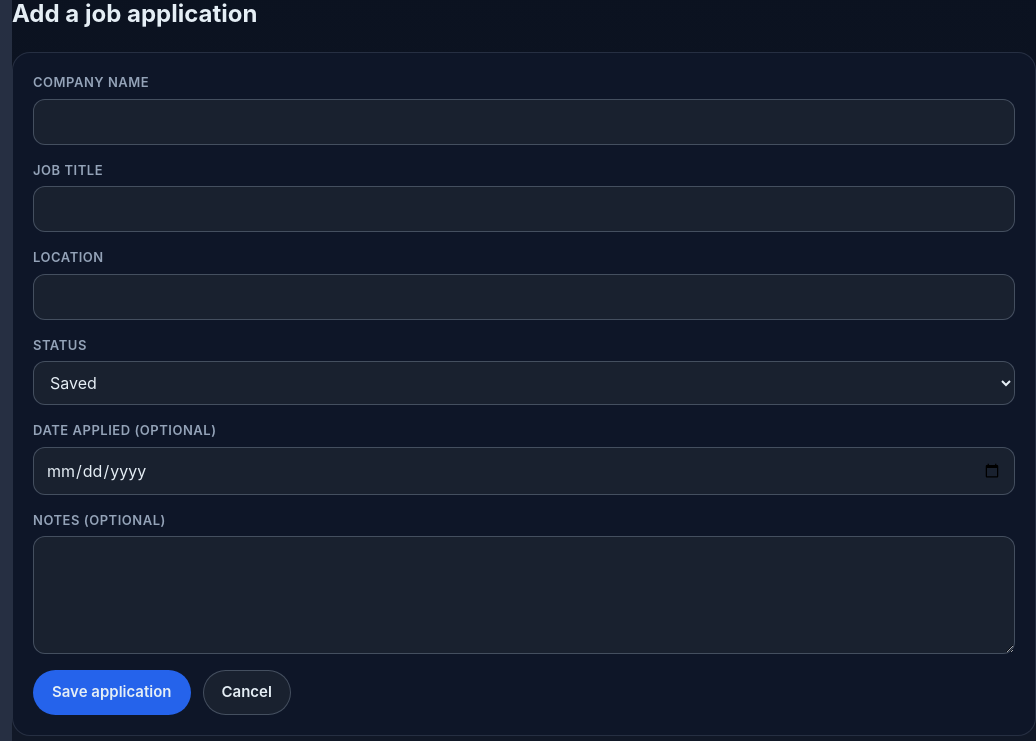
Test case: repository errors reach the user with their own message › gives a rejected storage write its own sentence instead of the fallback
Type "Fishermend" into the field labelled "Company name" at (524, 122), box [33,99,1015,145]
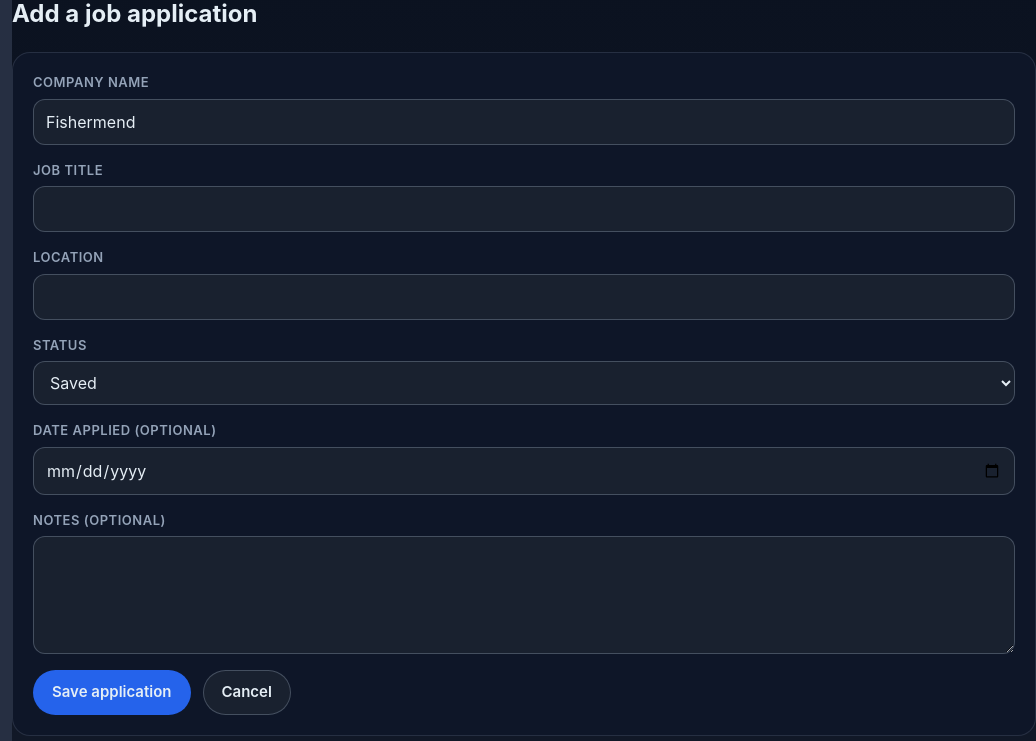
Type "Frontend Engineer" into the field labelled "Job title" at (524, 209), box [33,186,1015,232]
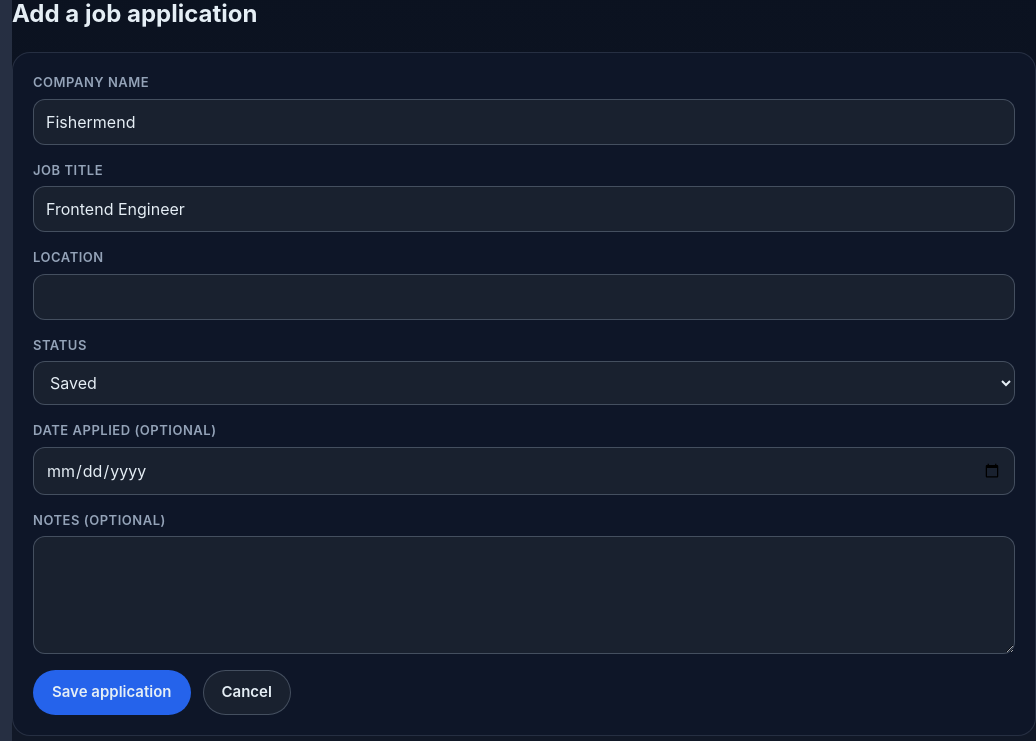
Type "Auckland, NZ" into the field labelled "Location" at (524, 297), box [33,274,1015,320]
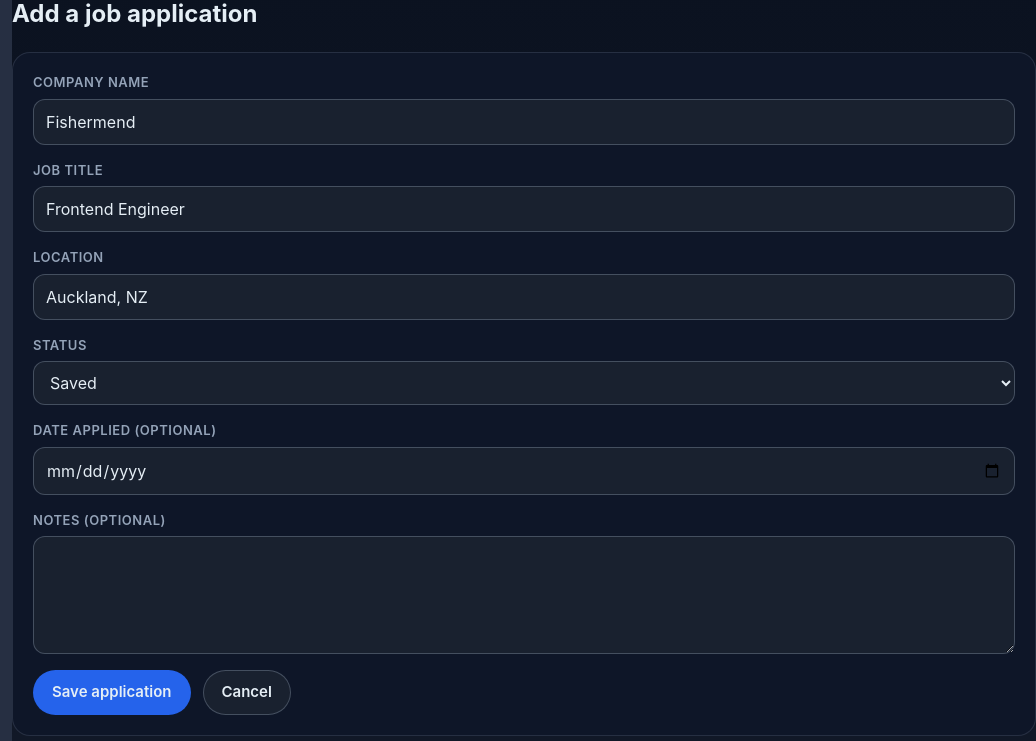
Click the button "Save application" at (112, 692), box [33,670,190,715]
(page scrolled)
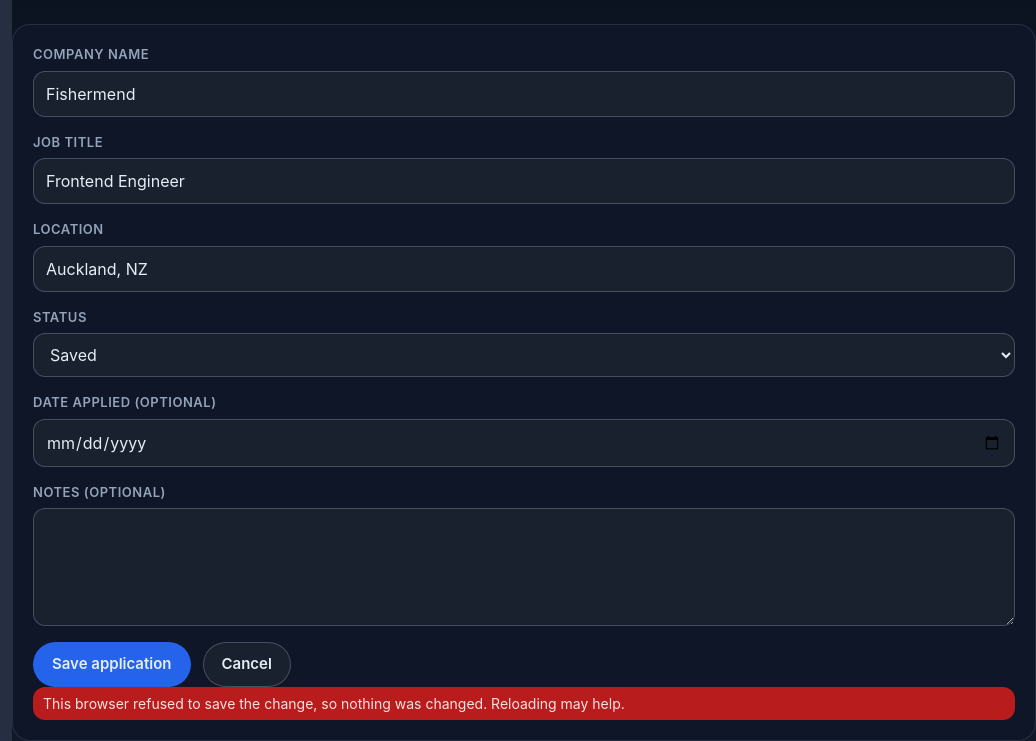
Expected: the text "refused to save" is shown, [43,695,625,712]
